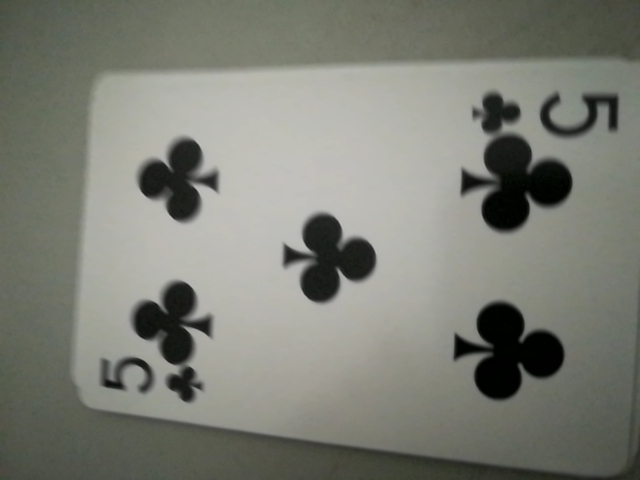mh 5: (471, 80, 617, 141), (94, 354, 210, 412)
